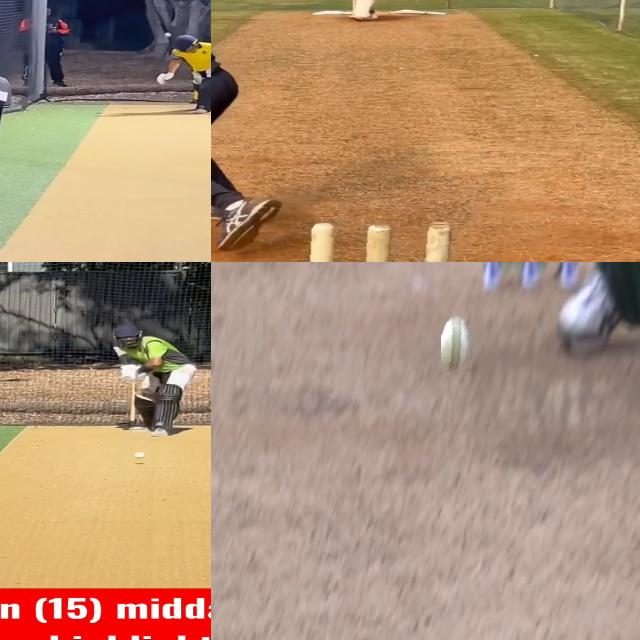Cricket ball: (441, 314, 473, 372), (133, 451, 147, 459), (164, 32, 172, 38)
Stumps: (307, 221, 464, 262)
